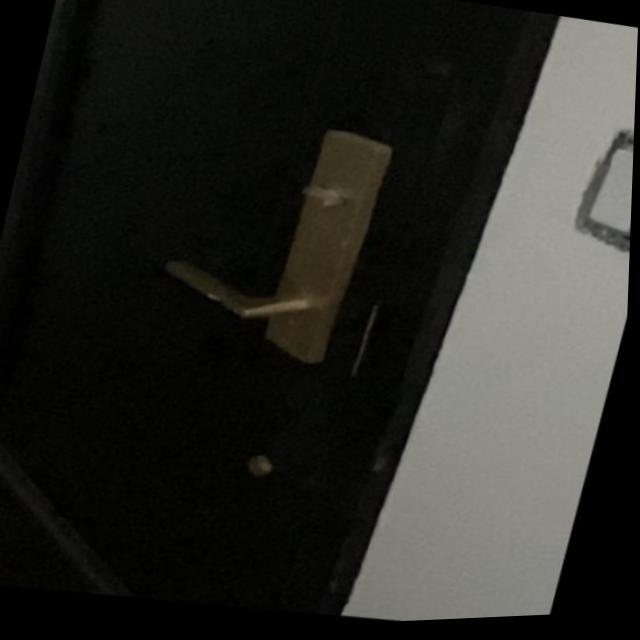door_handle: (140, 230, 396, 389)
